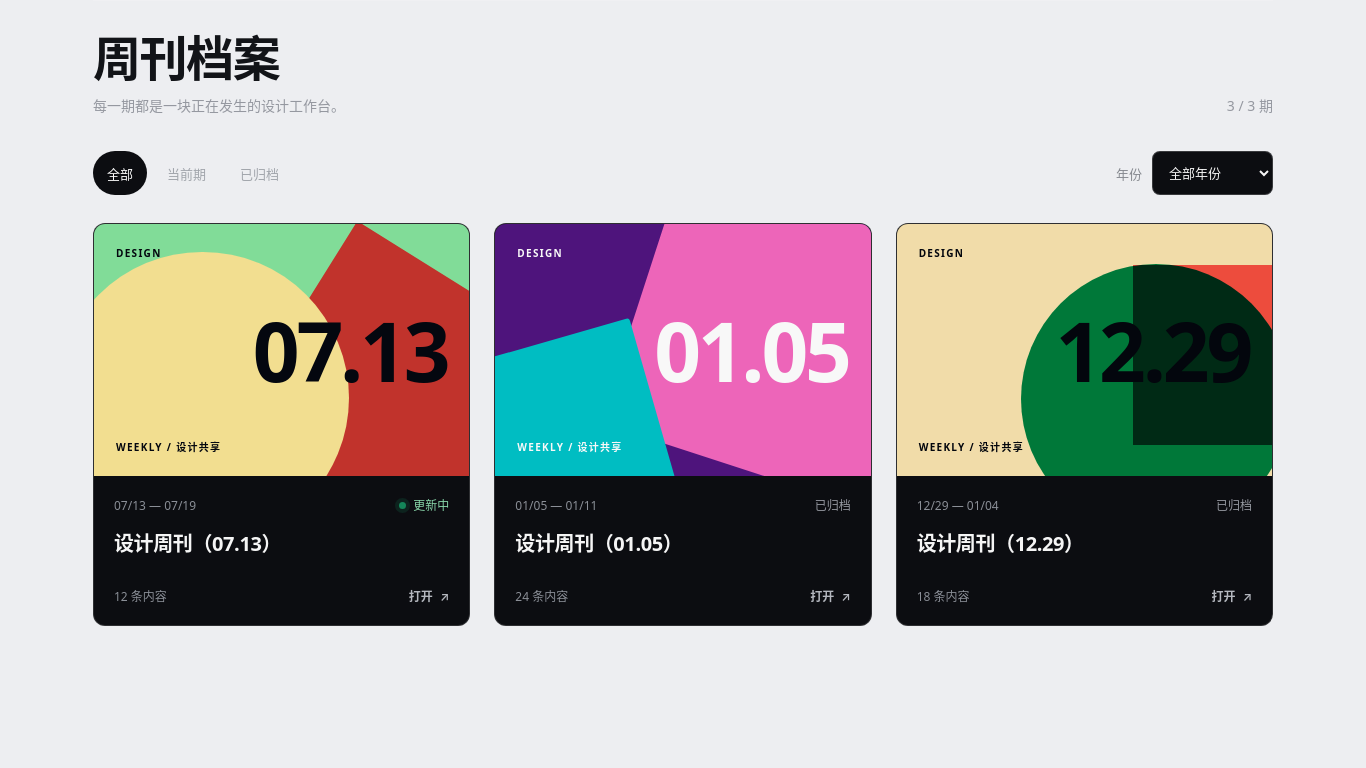
Scenario: IssueGrid › filters by year and status without hiding the server-rendered filter controls
This screenshot has width=1366, height=768.
Expected: the element named "按状态筛选" is shown, [93,151,293,195]
Step 1. Select "2025" in the dropdown named "按年份筛选" → (1212, 173), box [1152,151,1273,195]
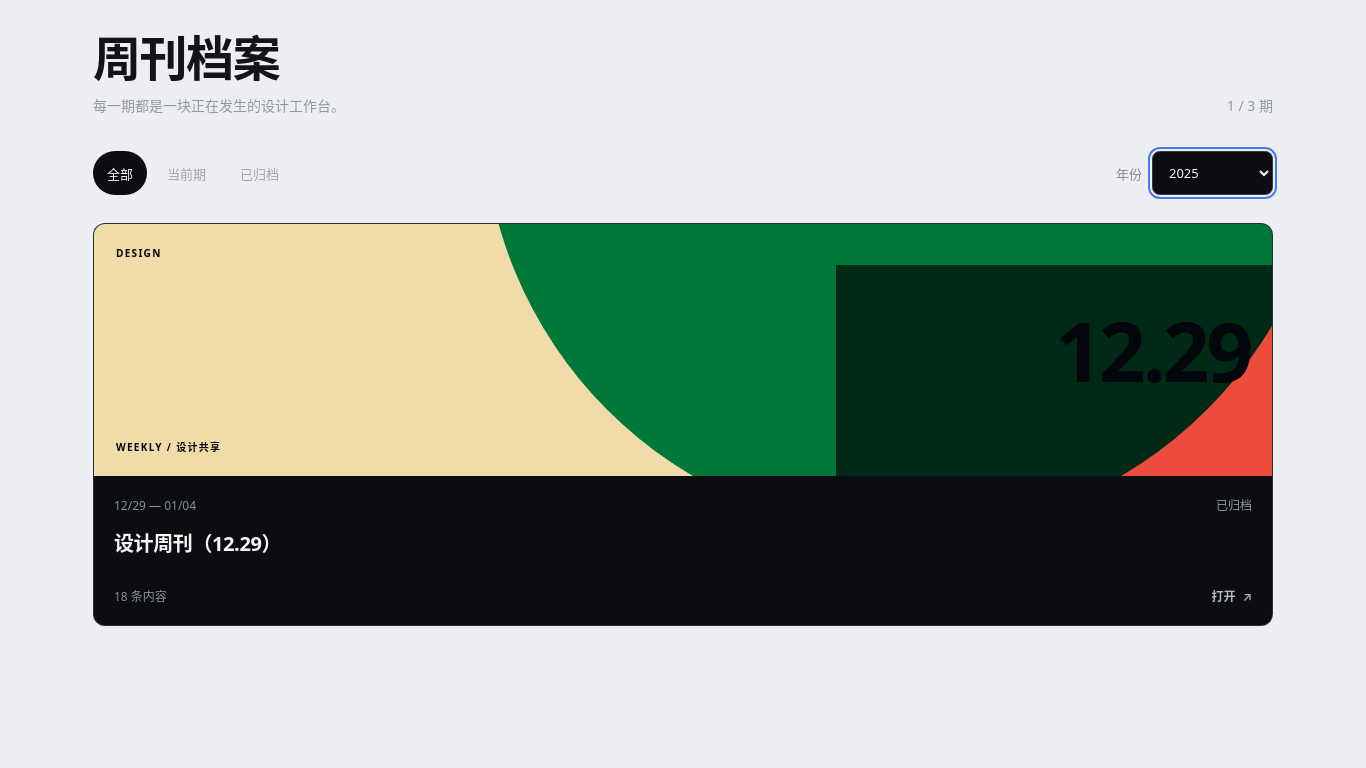
Expected: the heading "设计周刊（12.29）" is shown, [114,530,281,557]
Expected: the link "设计周刊（07.13）" is gone
Step 2. Select "全部年份" in the dropdown named "按年份筛选" → (1212, 173), box [1152,151,1273,195]
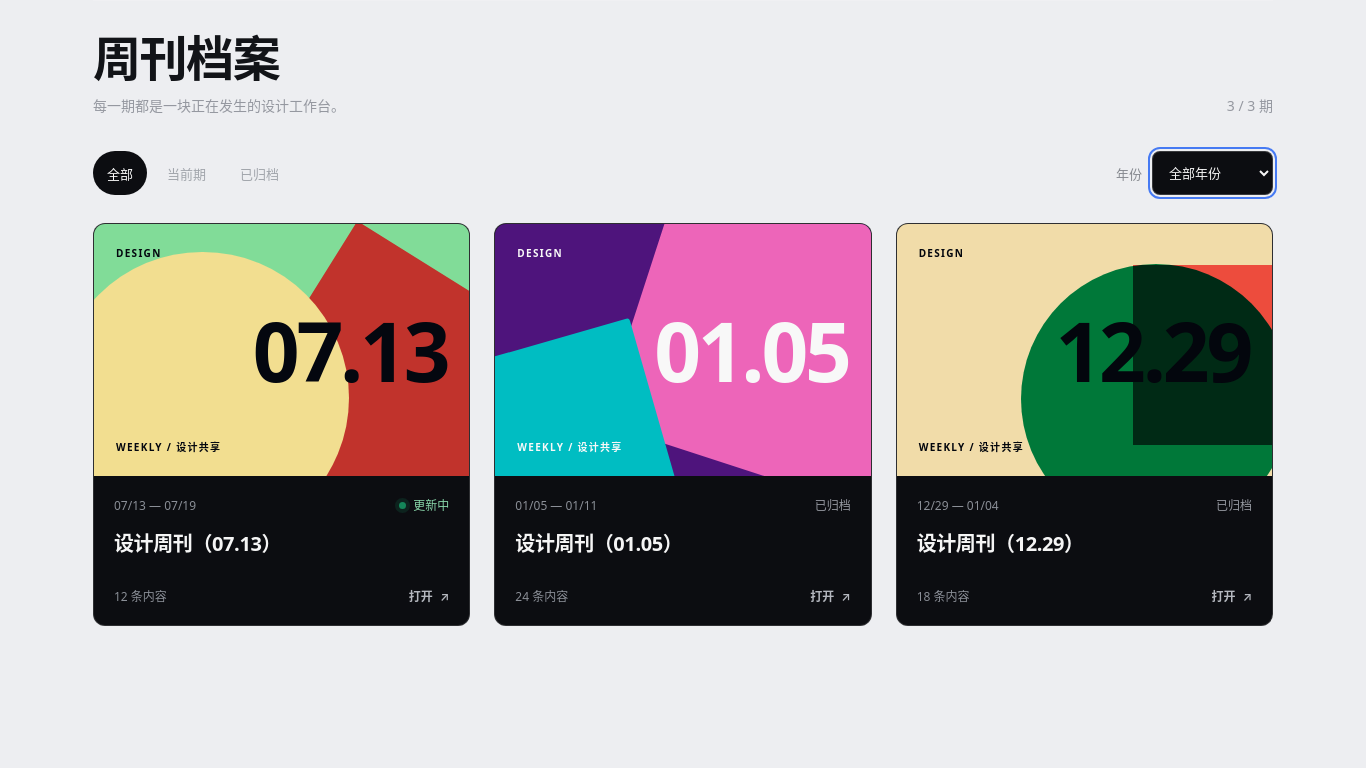
Step 3. Click the button with aria-label "只看归档" → (260, 173), box [226,151,293,195]
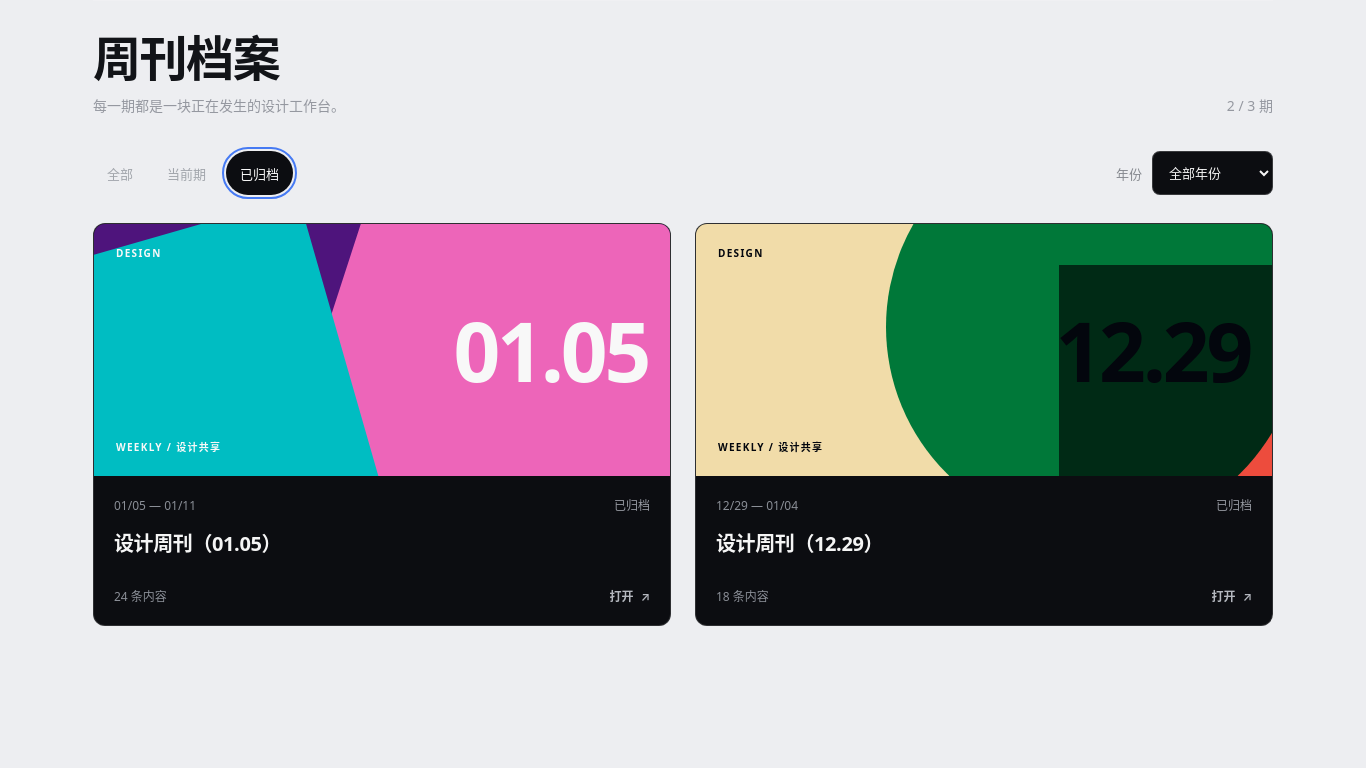
Expected: the number of list items is 2, [93,223,671,626]; [695,223,1273,626]
Expected: the link "更新中" is gone
